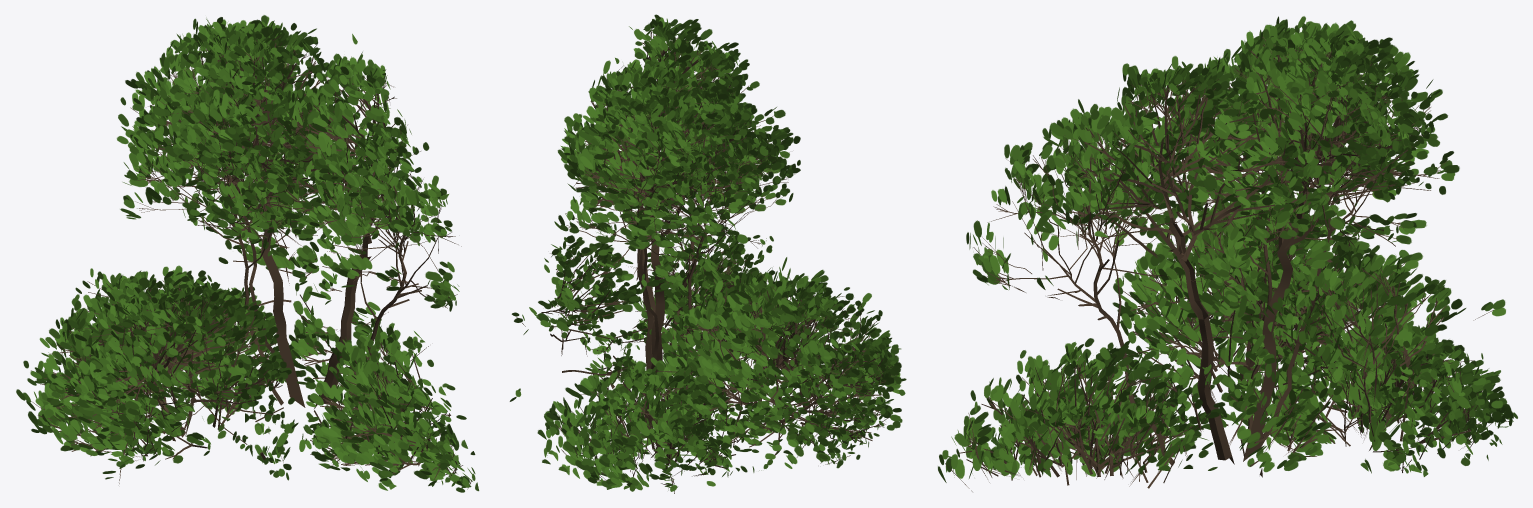
3 renders of one model, left to right at view 1: azimuth 30°, elevation 25°; view 2: azimuth 150°, elevation 25°; view 3: azimuth 270°, elevation 25°, orthographic. The views are drawn at different scales.
Visible parts, largest first — view 1: oak 01.001_trunk_Mat.001_0.399; view 2: oak 01.001_trunk_Mat.001_0.399; view 3: oak 01.001_trunk_Mat.001_0.399.
Boxes of the visible parts, x1,y1,x2,y2 form: oak 01.001_trunk_Mat.001_0.399: (16, 15, 479, 492); oak 01.001_trunk_Mat.001_0.399: (509, 14, 906, 493); oak 01.001_trunk_Mat.001_0.399: (938, 16, 1517, 491).
Bounding box in the file's own units: 3.35 × 3.99 × 4.78.
Materials: 2 (1 with a texture image).
